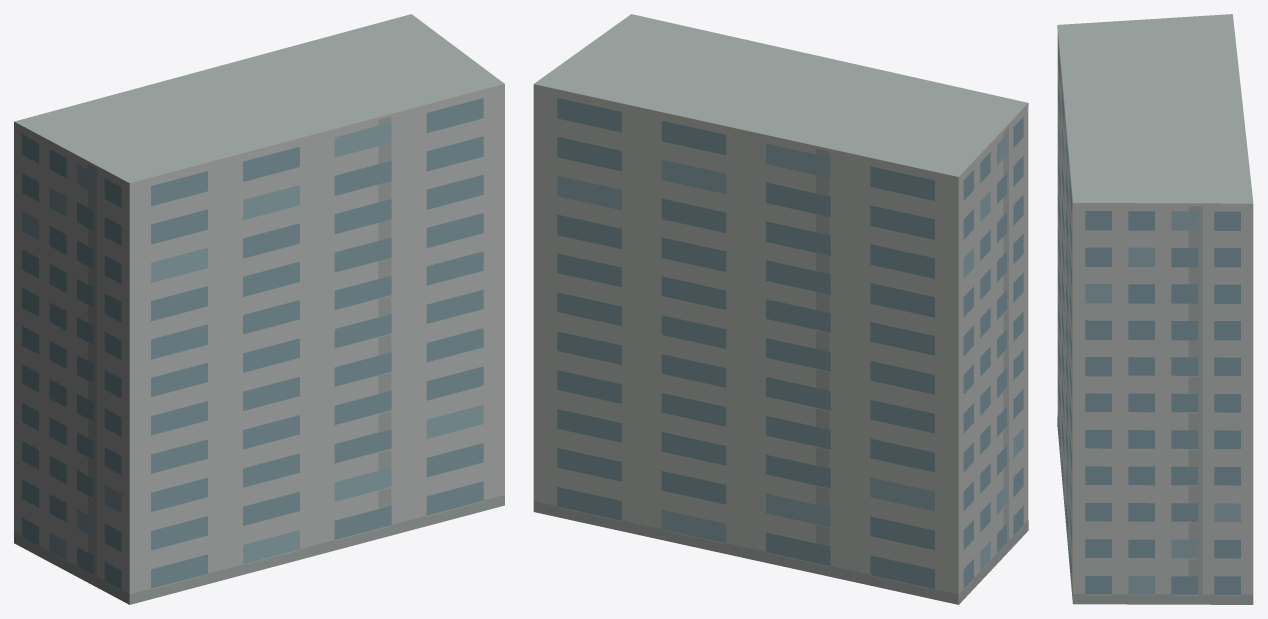
Rendered from residential-ca968702-97a3-4856-843f-8dfa19c43c98.glb.
3 views of the same model, side by side, from view 1: azimuth 30°, elevation 25°; view 2: azimuth 150°, elevation 25°; view 3: azimuth 270°, elevation 25° (orthographic). The views are drawn at different scales.
Visible parts, largest first — view 1: residential-ca968702-97a3-4856-843f-8dfa19c43c98.tmp; view 2: residential-ca968702-97a3-4856-843f-8dfa19c43c98.tmp; view 3: residential-ca968702-97a3-4856-843f-8dfa19c43c98.tmp.
Boxes of the visible parts, left/top/right/bottom form: residential-ca968702-97a3-4856-843f-8dfa19c43c98.tmp: left=14, top=14, right=504, bottom=604; residential-ca968702-97a3-4856-843f-8dfa19c43c98.tmp: left=533, top=14, right=1028, bottom=604; residential-ca968702-97a3-4856-843f-8dfa19c43c98.tmp: left=1057, top=14, right=1253, bottom=604.
Bounding box in the file's own units: 37.5 × 37 × 16.39.
